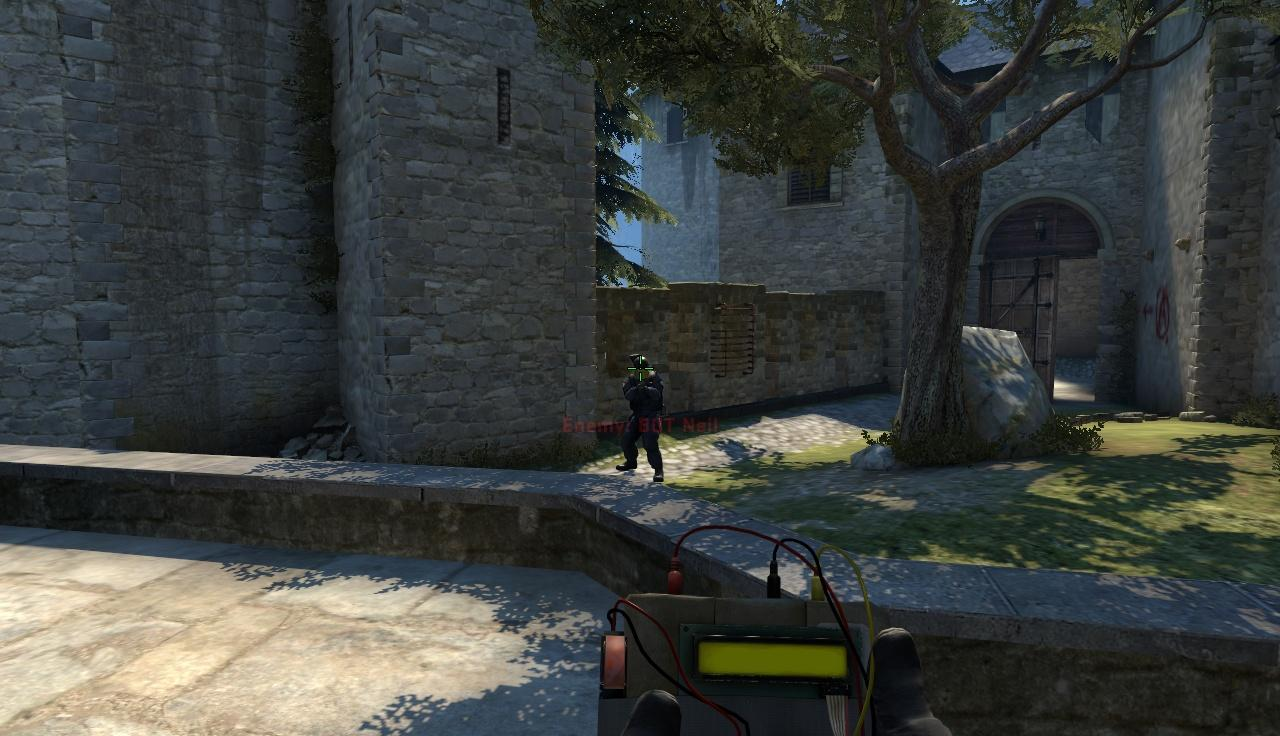ct: (618, 354, 665, 482)
cthead: (632, 356, 651, 379)
